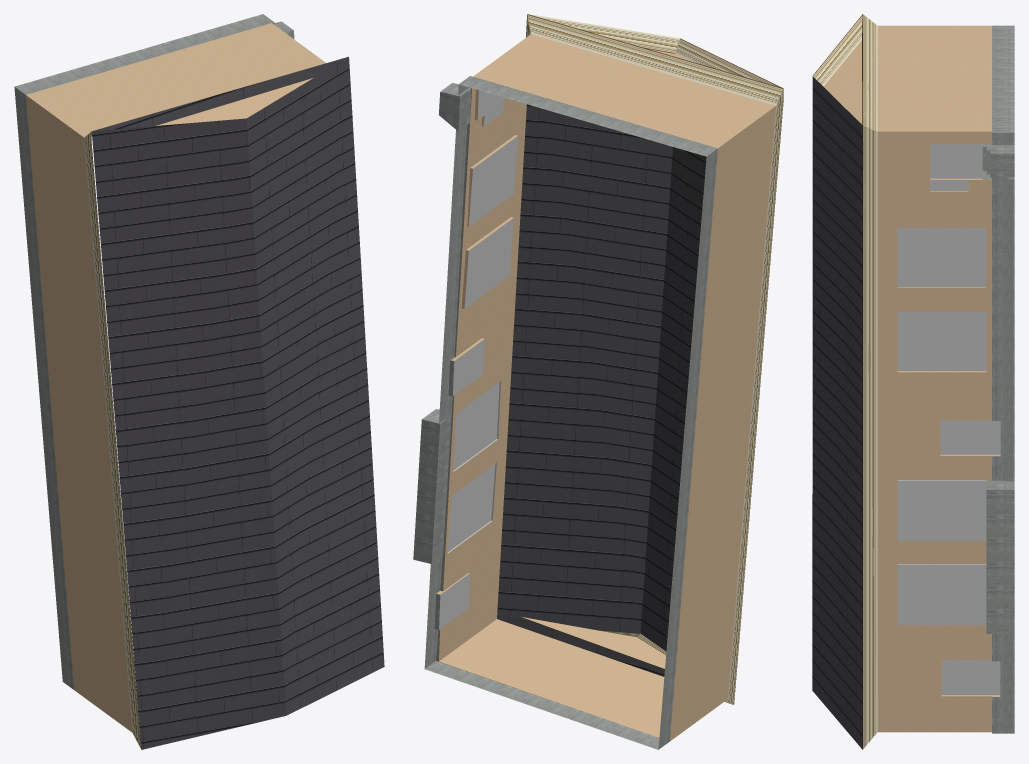
File: Vana_Viru_14a-origo.obj
3 views of the same model, side by side, from view 1: azimuth 30°, elevation 25°; view 2: azimuth 150°, elevation 25°; view 3: azimuth 270°, elevation 25° (orthographic).
Visible parts, largest first — view 1: Vana_Viru_14a; view 2: Vana_Viru_14a; view 3: Vana_Viru_14a.
Part boxes in pixels (x1,y1,x2,y2): Vana_Viru_14a: [14, 14, 384, 749]; Vana_Viru_14a: [413, 14, 783, 749]; Vana_Viru_14a: [812, 14, 1014, 749].
Size of the model in its own units: 12.94 by 27 by 7.84.
